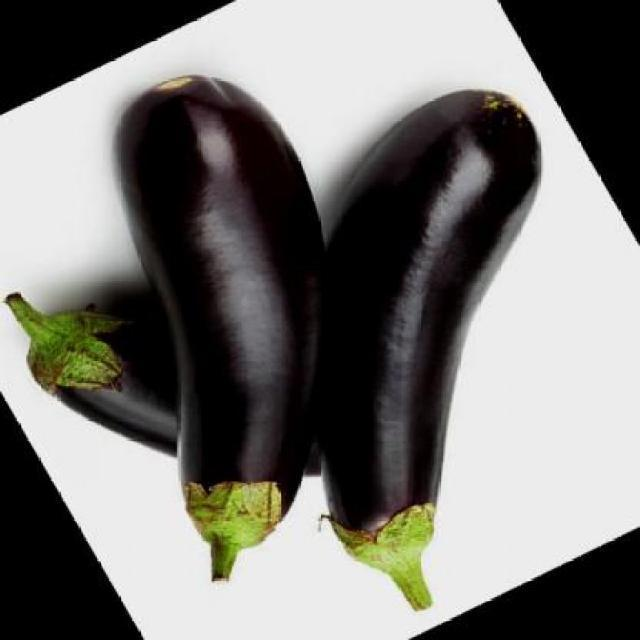eggplant: (92, 48, 361, 590), (306, 62, 560, 628), (0, 288, 330, 486)
